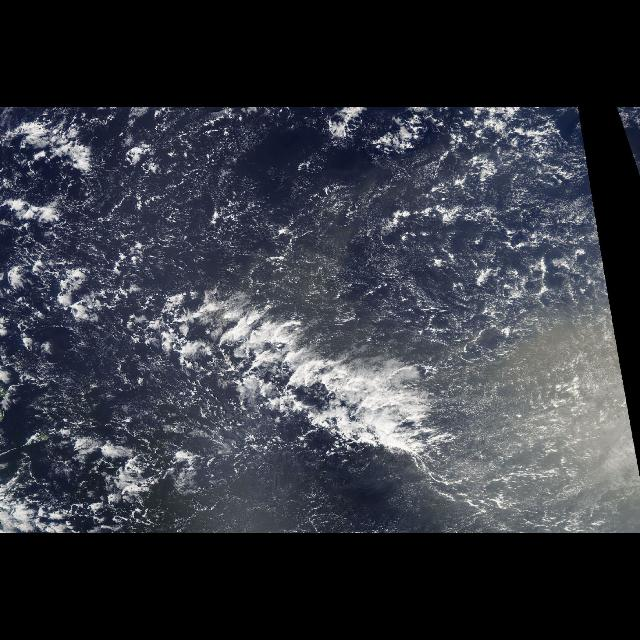Fish: (106, 246, 456, 474)
Gravel: (388, 108, 620, 366), (25, 354, 295, 526), (6, 170, 194, 284)
Sugar: (101, 111, 578, 261), (416, 344, 630, 534)
